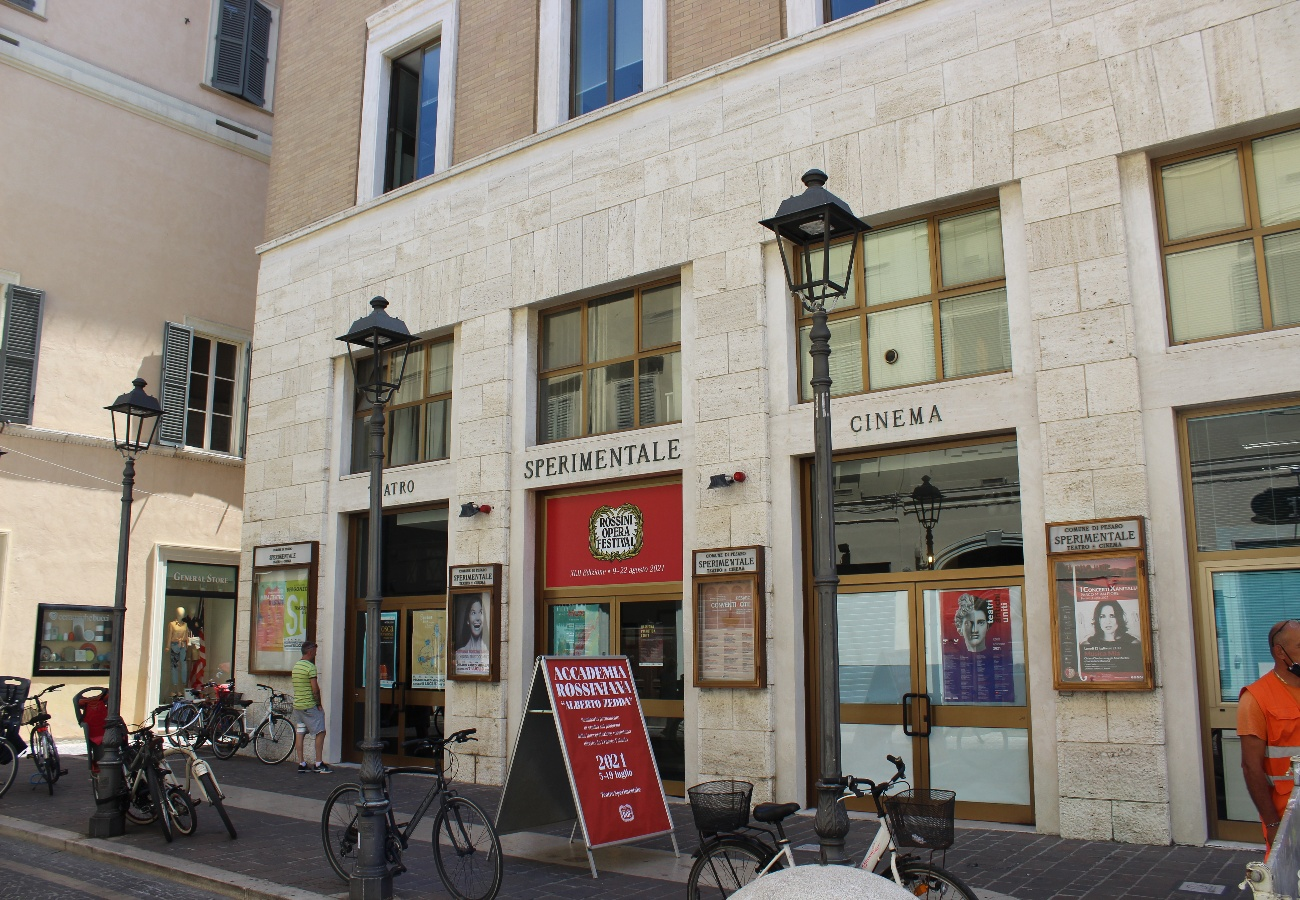Teatro Sperimentale: (254, 4, 1300, 847)
